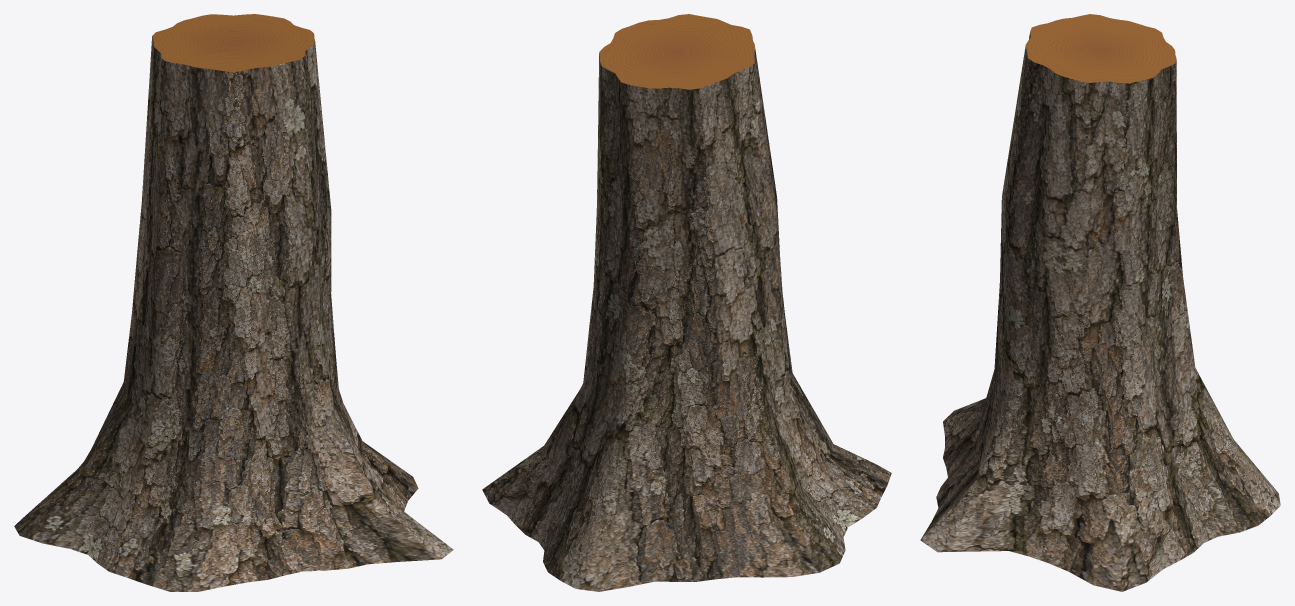
File: SM_HarvestOak_Trunk.fbx
The picture shows the model from 3 angles, left to right: view 1: azimuth 30°, elevation 25°; view 2: azimuth 150°, elevation 25°; view 3: azimuth 270°, elevation 25°; orthographic projection. The views are drawn at different scales.
Visible parts, largest first — view 1: SM_HarvestOak_Trunk; view 2: SM_HarvestOak_Trunk; view 3: SM_HarvestOak_Trunk.
Boxes of the visible parts, <box> form: SM_HarvestOak_Trunk: <box>14,14,453,591</box>; SM_HarvestOak_Trunk: <box>482,14,891,591</box>; SM_HarvestOak_Trunk: <box>920,14,1280,591</box>.
Size of the model in its own units: 1.47 by 1.3 by 1.83.
Materials: 2 (2 with a texture image).
